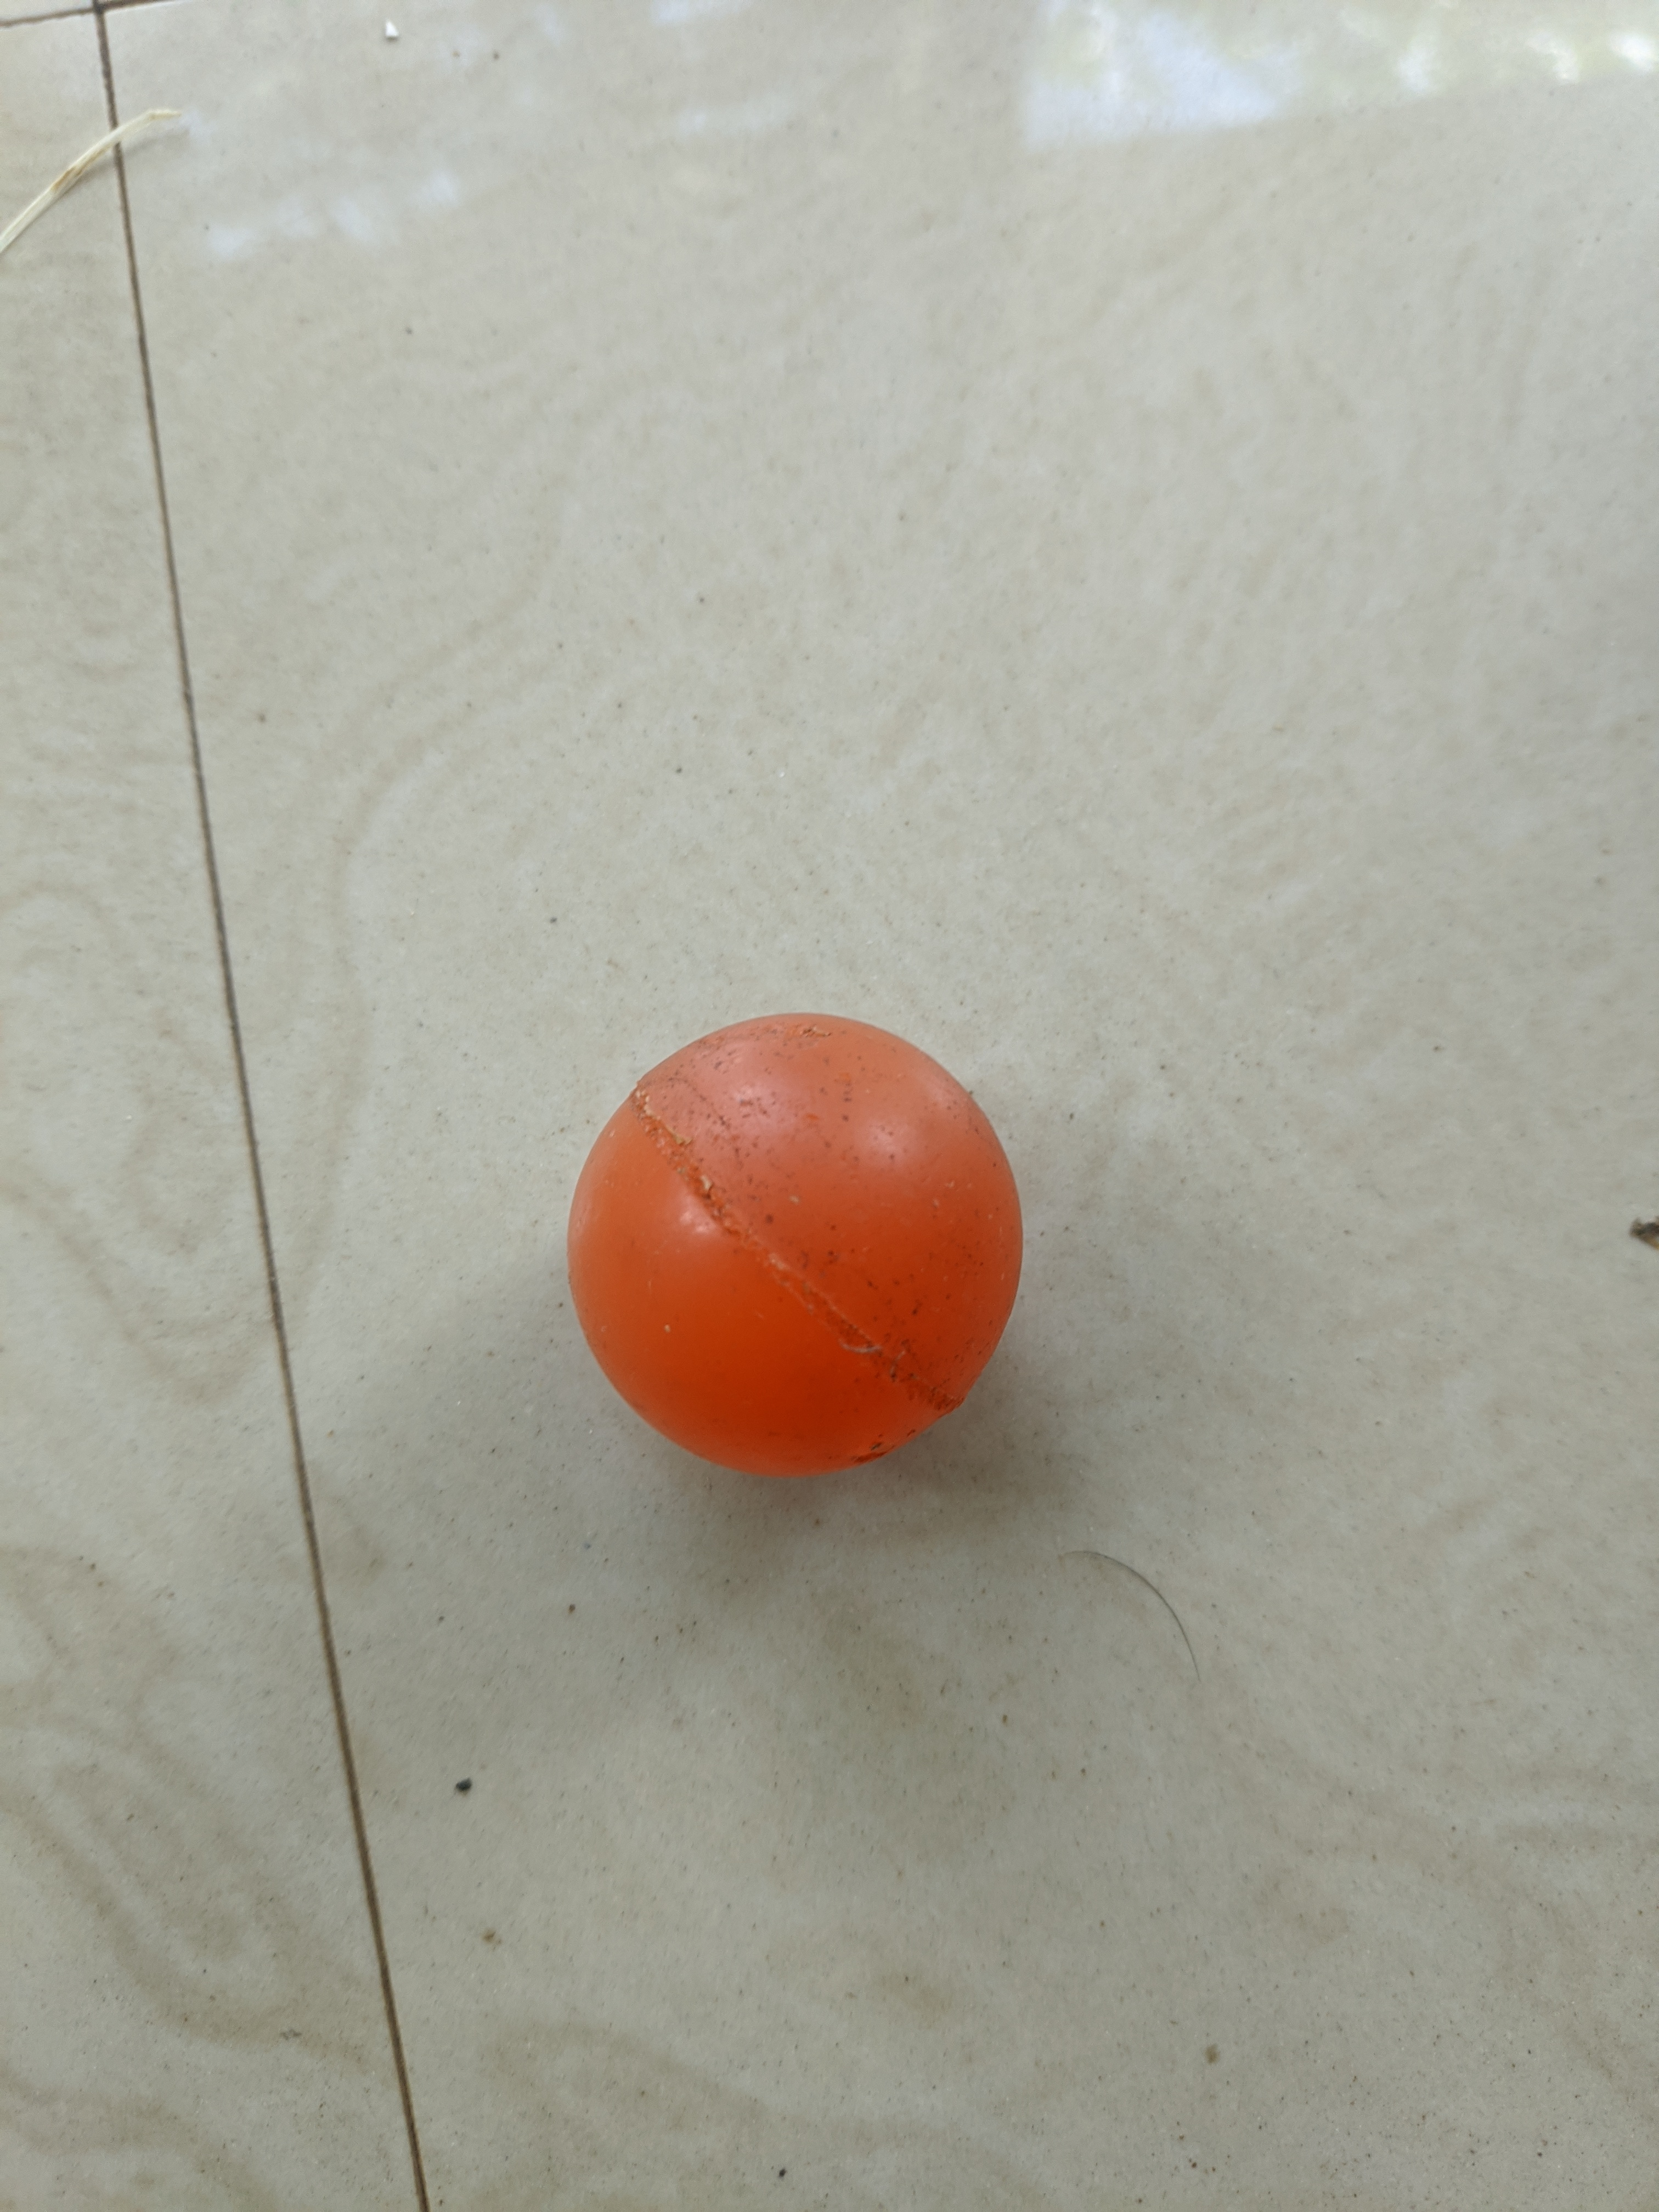red_ball: (535, 995, 1053, 1512)
